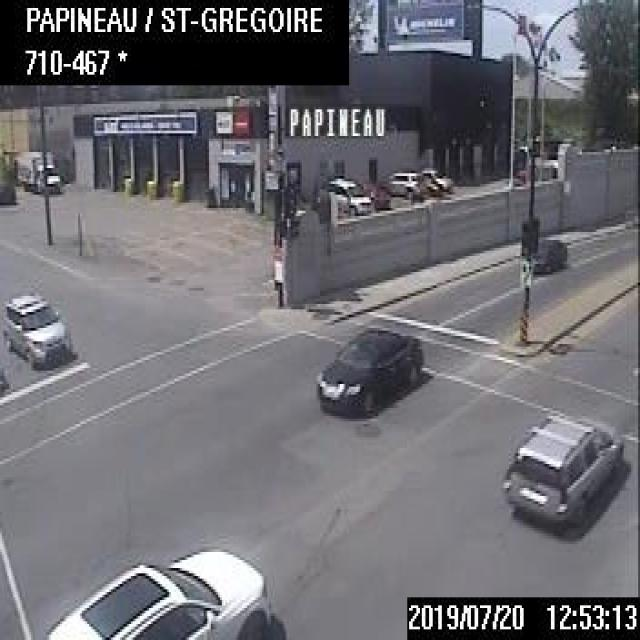vehicle: (44, 544, 271, 637), (504, 411, 624, 528), (316, 323, 420, 413), (0, 288, 73, 368), (13, 148, 62, 192), (321, 172, 370, 213), (534, 232, 566, 272), (382, 169, 419, 200), (418, 167, 453, 197)
